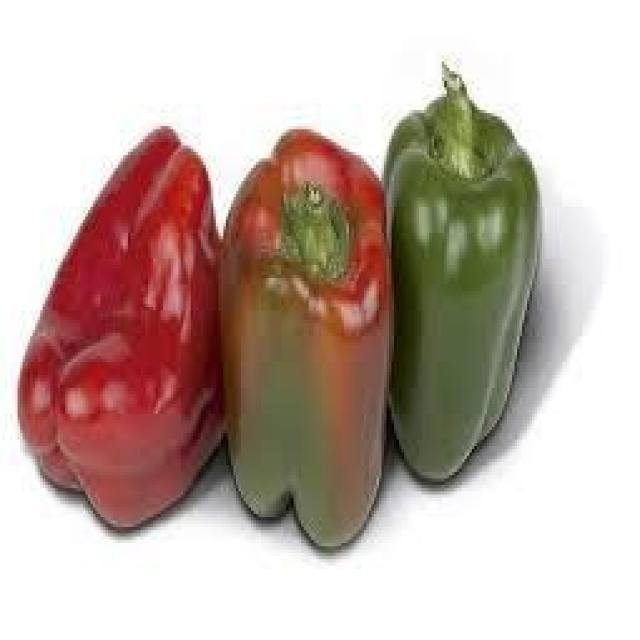bell_pepper: (202, 119, 413, 565), (360, 59, 567, 503)
